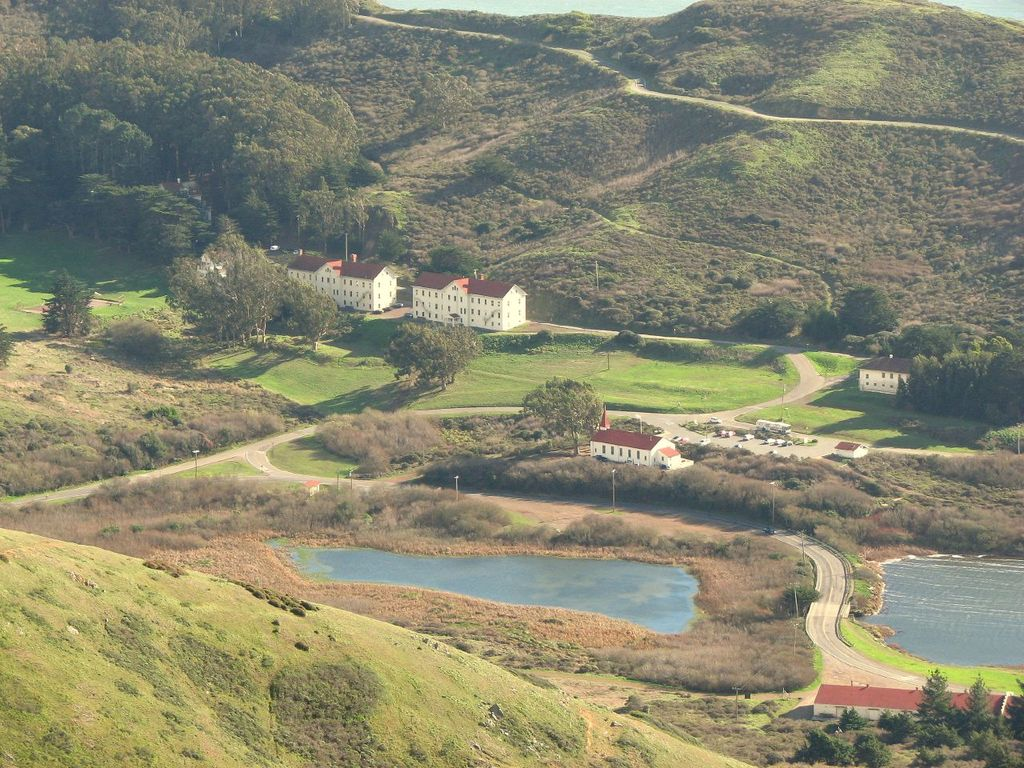Tree: (0, 0, 413, 271), (158, 216, 334, 349), (800, 665, 1023, 767), (892, 333, 1023, 429), (384, 320, 481, 392), (521, 375, 605, 457), (39, 275, 94, 339), (838, 285, 898, 337), (742, 296, 793, 339), (796, 308, 846, 343), (0, 319, 17, 375)
